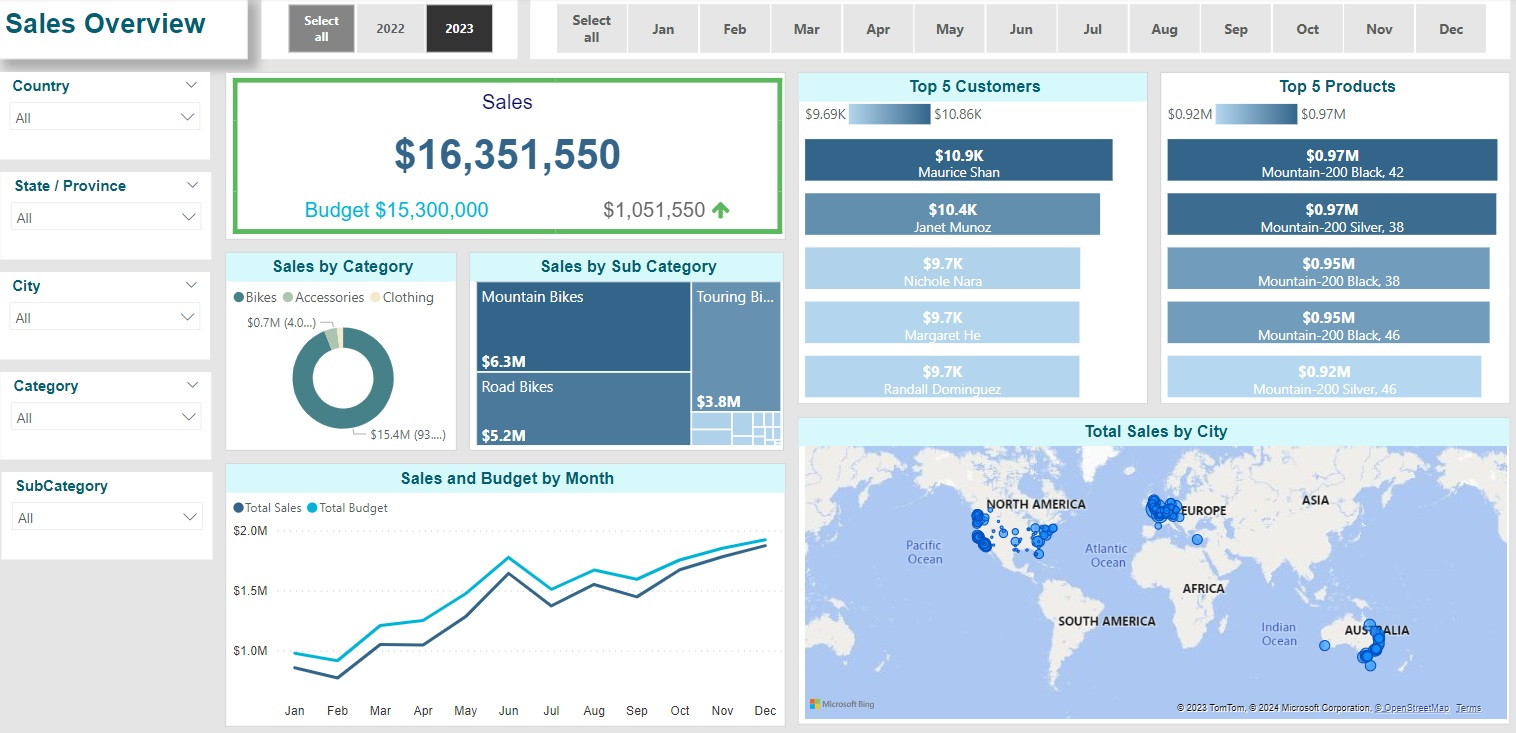

Layout of this report page (visuals, bound fields, positions):
{"tool":"powerbi","page":{"name":"Sales Overview","canvas":[1500,720],"ordinal":0},"visuals":[{"type":"textbox","box":[9.8,0,243.3,61.1],"z":0},{"type":"slicer","fields":{"Values":["DimCustomers.City"]},"box":[9.8,268.9,206.6,85.6],"z":1000},{"type":"slicer","fields":{"Values":["DimCustomers.Country"]},"box":[9.8,73.3,206.6,85.6],"z":2000},{"type":"slicer","fields":{"Values":["DimCustomers.State / Province"]},"box":[11,171.1,206.6,85.6],"z":3000},{"type":"slicer","fields":{"Values":["DimProducts.Category"]},"box":[11,366.7,206.6,85.6],"z":4000},{"type":"slicer","fields":{"Values":["DimProducts.SubCategory"]},"box":[12.2,464.5,206.6,85.6],"z":5000},{"type":"slicer","fields":{"Values":["DimCalendar.Year"]},"box":[266.5,0,250.6,61.1],"z":6000},{"type":"slicer","fields":{"Values":["DimCalendar.MonthShort"]},"box":[529.3,0,958.4,61.1],"z":7000},{"type":"BBED0A4D4D8D44CE93CF2DAFADEE466C","fields":{"actual":["Fact_InternetSales.Total Sales"],"target1":["Fact_Budget.Total Budget"],"target2":["Key Measures.Sales-Budget"]},"box":[231,73.3,547.6,163.8],"z":8000},{"type":"lineChart","title":"Sales and Budget by Month","fields":{"Category":["DimCalendar.MonthShort"],"Y":["Key Measures.Total Sales"],"Y2":["Key Measures.Total Budget"]},"box":[231,456,547.6,257.9],"z":9000},{"type":"donutChart","title":"Sales by Category","fields":{"Category":["DimProducts.Category"],"Y":["Key Measures.Total Sales"]},"box":[231,249.4,226.1,194.4],"z":10000},{"type":"barChart","title":"Top 5 Customers","fields":{"Y":["Key Measures.Total Sales"],"Category":["DimCustomers.Key_Name"]},"box":[790.9,73.3,342.3,325.2],"z":11000},{"type":"barChart","title":"Top 5 Products","fields":{"Y":["Key Measures.Total Sales"],"Category":["DimProducts.ProductName"]},"box":[1145.4,73.3,342.3,325.2],"z":12000},{"type":"map","fields":{"Category":["DimCustomers.City"],"Size":["Key Measures.Total Sales"]},"box":[790.9,410.7,696.8,300.7],"z":13000},{"type":"treemap","title":"Sales by Sub Category","fields":{"Group":["DimProducts.SubCategory"],"Values":["Key Measures.Total Sales"]},"box":[469.4,249.4,308,194.4],"z":14000}]}

Visuals, with their boxes in screenshot pixels (x1, y1, x2, y2), scaled from the page's 1500x720 canvas onto the 1516x733 screenshot:
textbox: pyautogui.locateOnScreen(10, 0, 256, 62)
slicer - DimCustomers.City: pyautogui.locateOnScreen(10, 274, 219, 361)
slicer - DimCustomers.Country: pyautogui.locateOnScreen(10, 75, 219, 162)
slicer - DimCustomers.State / Province: pyautogui.locateOnScreen(11, 174, 220, 261)
slicer - DimProducts.Category: pyautogui.locateOnScreen(11, 373, 220, 460)
slicer - DimProducts.SubCategory: pyautogui.locateOnScreen(12, 473, 221, 560)
slicer - DimCalendar.Year: pyautogui.locateOnScreen(269, 0, 523, 62)
slicer - DimCalendar.MonthShort: pyautogui.locateOnScreen(535, 0, 1504, 62)
BBED0A4D4D8D44CE93CF2DAFADEE466C - Fact_InternetSales.Total Sales x Fact_Budget.Total Budget: pyautogui.locateOnScreen(233, 75, 787, 241)
"Sales and Budget by Month" lineChart: pyautogui.locateOnScreen(233, 464, 787, 727)
"Sales by Category" donutChart: pyautogui.locateOnScreen(233, 254, 462, 452)
"Top 5 Customers" barChart: pyautogui.locateOnScreen(799, 75, 1145, 406)
"Top 5 Products" barChart: pyautogui.locateOnScreen(1158, 75, 1504, 406)
map - DimCustomers.City x Key Measures.Total Sales: pyautogui.locateOnScreen(799, 418, 1504, 724)
"Sales by Sub Category" treemap: pyautogui.locateOnScreen(474, 254, 786, 452)
